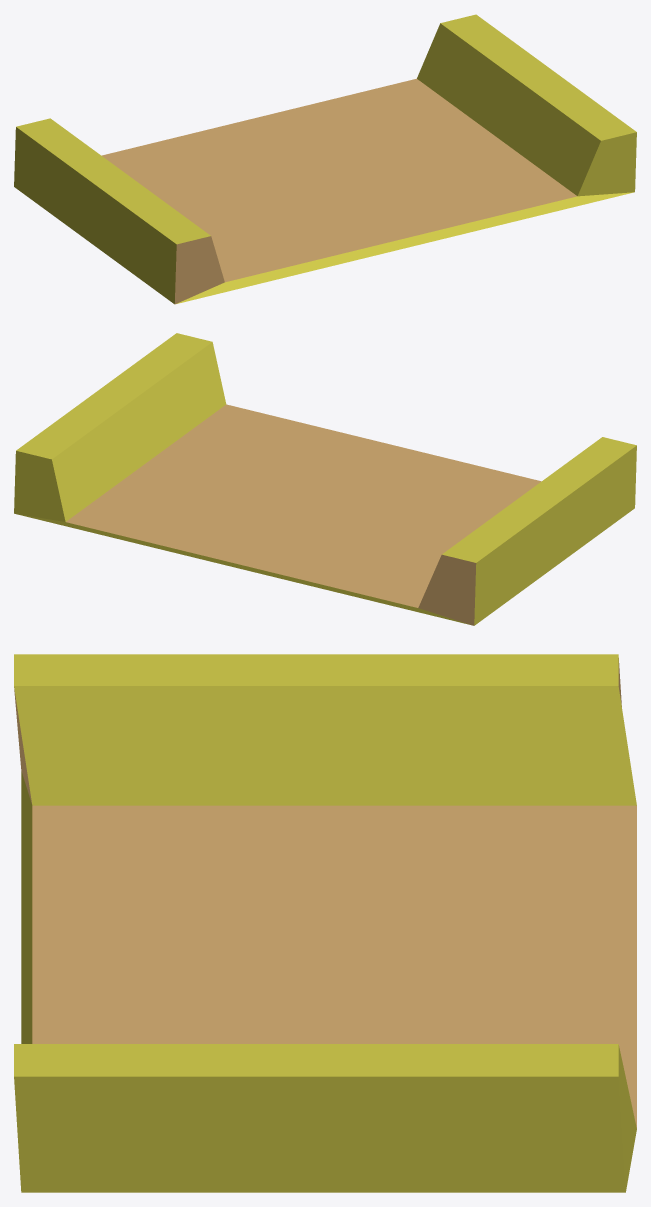
The model's file is Middle.fbx.
3 renders of one model, top to bottom at view 1: azimuth 30°, elevation 25°; view 2: azimuth 150°, elevation 25°; view 3: azimuth 270°, elevation 25°, orthographic. The views are drawn at different scales.
Visible parts, largest first — view 1: Cube; view 2: Cube; view 3: Cube.
Boxes of the visible parts, x1,y1,x2,y2 form: Cube: (14,14,636,304); Cube: (14,333,636,625); Cube: (14,654,636,1192).
Bounding box in the file's own units: 887 × 113 × 553.
